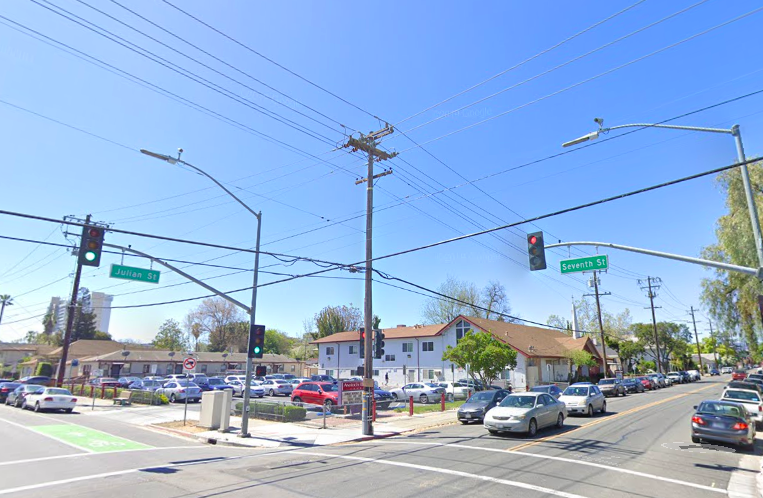utility_pole: (330, 109, 405, 208)
